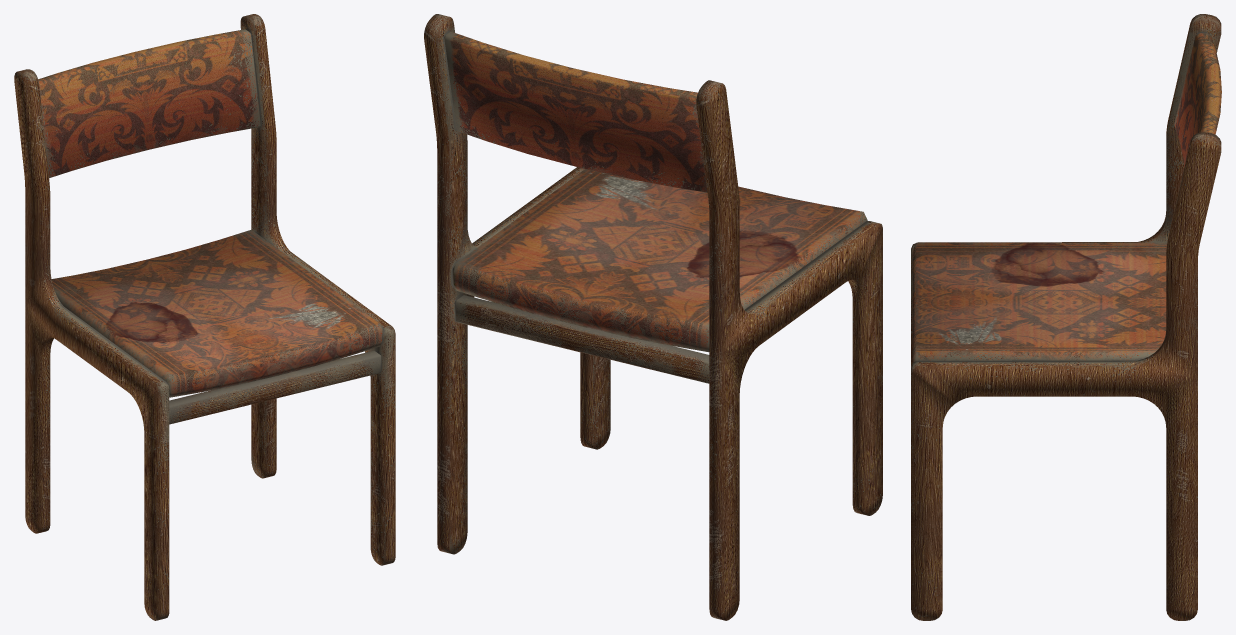
The model's file is Kursi 1.fbx.
3 views of the same model, side by side, from view 1: azimuth 30°, elevation 25°; view 2: azimuth 150°, elevation 25°; view 3: azimuth 270°, elevation 25° (orthographic). The views are drawn at different scales.
Parts seen in each view (by area): view 1: Kursi 1_LOD0; view 2: Kursi 1_LOD0; view 3: Kursi 1_LOD0.
Boxes of the visible parts, x1=… form: Kursi 1_LOD0: x1=14, y1=14, x2=395, y2=620; Kursi 1_LOD0: x1=424, y1=14, x2=882, y2=620; Kursi 1_LOD0: x1=911, y1=14, x2=1221, y2=620.
Size of what is drawn, in the model's own units: 56.48 by 103 by 59.98.
